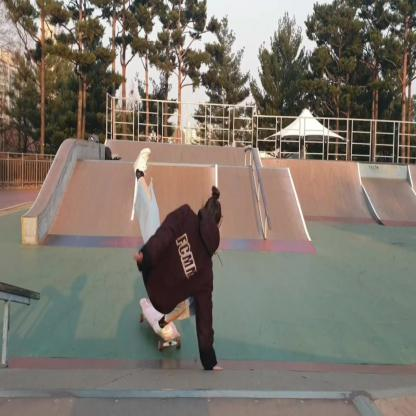Fall_Down: (131, 142, 225, 374)
